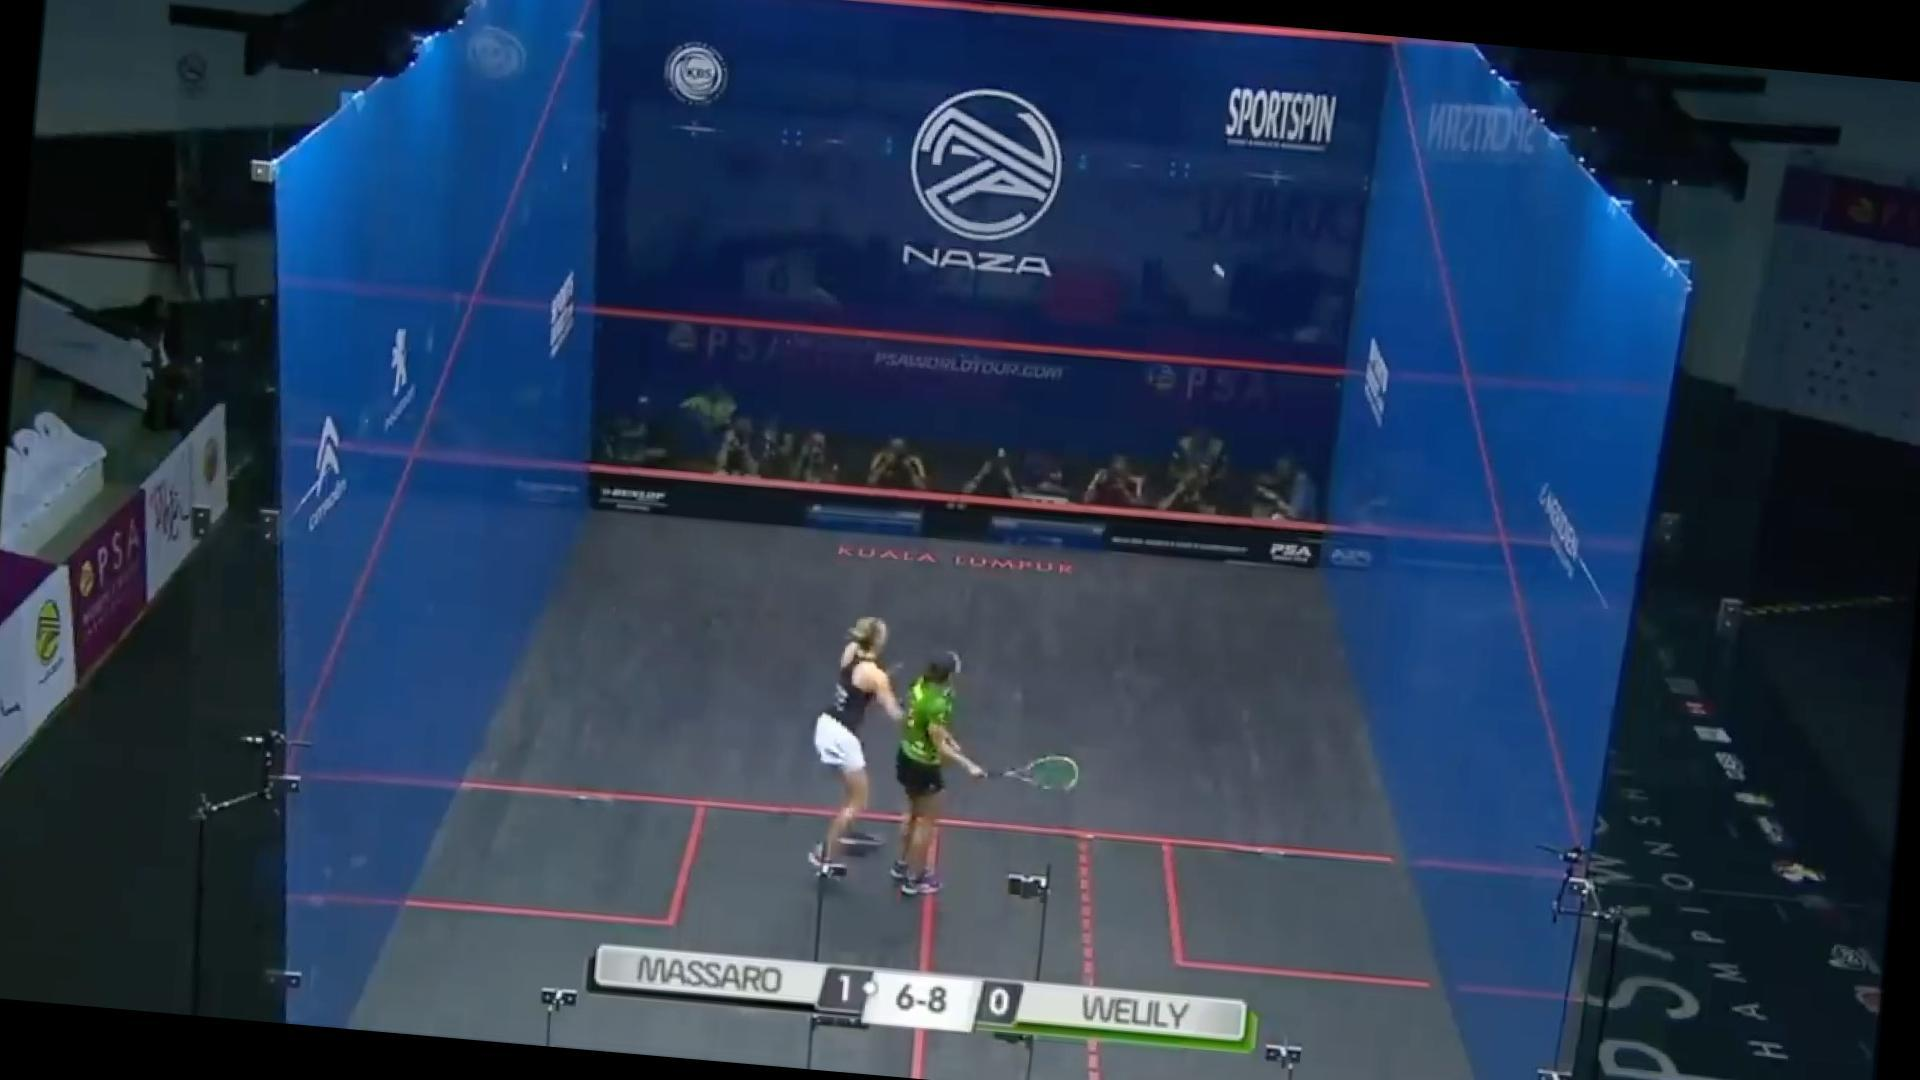Squash-Ball: (1200, 248, 1244, 298)
